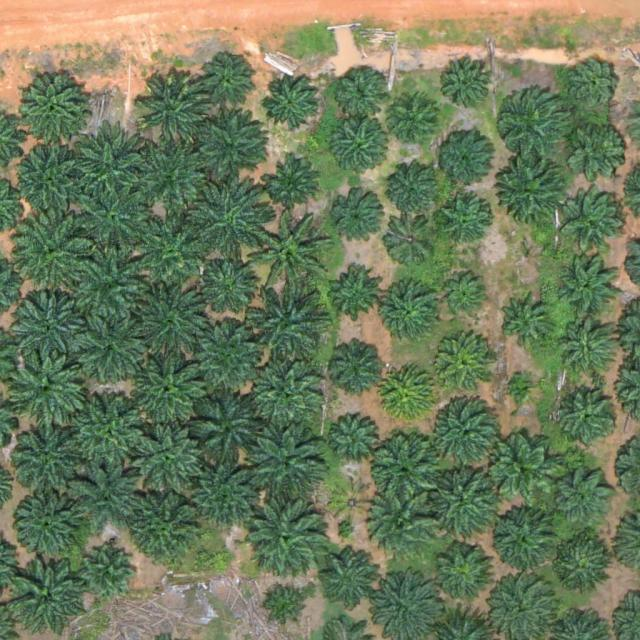Dead: (332, 482, 371, 521)
Healthy: (137, 70, 215, 149), (132, 137, 210, 216), (135, 217, 213, 296), (135, 287, 213, 366), (131, 356, 209, 435), (128, 489, 206, 568), (71, 459, 149, 538), (69, 394, 147, 473), (73, 248, 151, 327), (76, 181, 154, 260), (73, 131, 151, 210), (13, 143, 91, 222), (12, 286, 90, 365), (9, 352, 87, 431), (8, 560, 86, 639), (188, 182, 266, 261), (188, 323, 266, 402), (186, 390, 264, 469), (187, 458, 265, 537), (246, 430, 324, 509), (251, 500, 329, 579), (251, 287, 329, 366), (249, 215, 327, 294), (363, 485, 441, 564), (429, 395, 507, 474), (427, 467, 505, 546), (486, 430, 564, 509), (497, 86, 575, 165), (125, 418, 203, 496), (71, 313, 149, 391), (19, 213, 97, 291), (191, 106, 269, 184), (248, 352, 326, 430), (15, 72, 86, 143), (11, 429, 82, 500), (14, 494, 85, 564), (371, 431, 441, 502), (434, 544, 497, 607), (492, 509, 555, 572), (555, 255, 618, 318), (567, 114, 630, 177), (504, 160, 567, 223), (552, 471, 614, 534), (559, 386, 621, 449), (559, 321, 621, 384), (565, 191, 627, 254), (316, 546, 378, 608), (382, 285, 444, 347), (204, 260, 259, 315), (331, 122, 386, 177), (334, 194, 389, 249), (326, 264, 381, 319), (329, 337, 384, 392), (383, 211, 438, 266), (388, 93, 443, 148), (442, 58, 497, 113), (437, 132, 492, 187), (440, 199, 495, 254), (436, 341, 491, 396), (560, 542, 615, 597), (499, 293, 554, 348), (81, 544, 135, 599), (202, 58, 256, 113), (266, 155, 320, 210), (263, 74, 317, 129), (328, 411, 382, 466), (568, 60, 622, 115)
Small: (332, 64, 387, 119), (387, 161, 441, 216), (259, 584, 306, 632), (444, 272, 491, 319), (508, 371, 539, 402)
Yellow: (383, 367, 438, 422)
